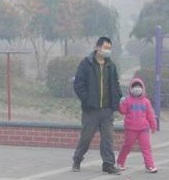person: (68, 33, 126, 177), (115, 76, 161, 175)
